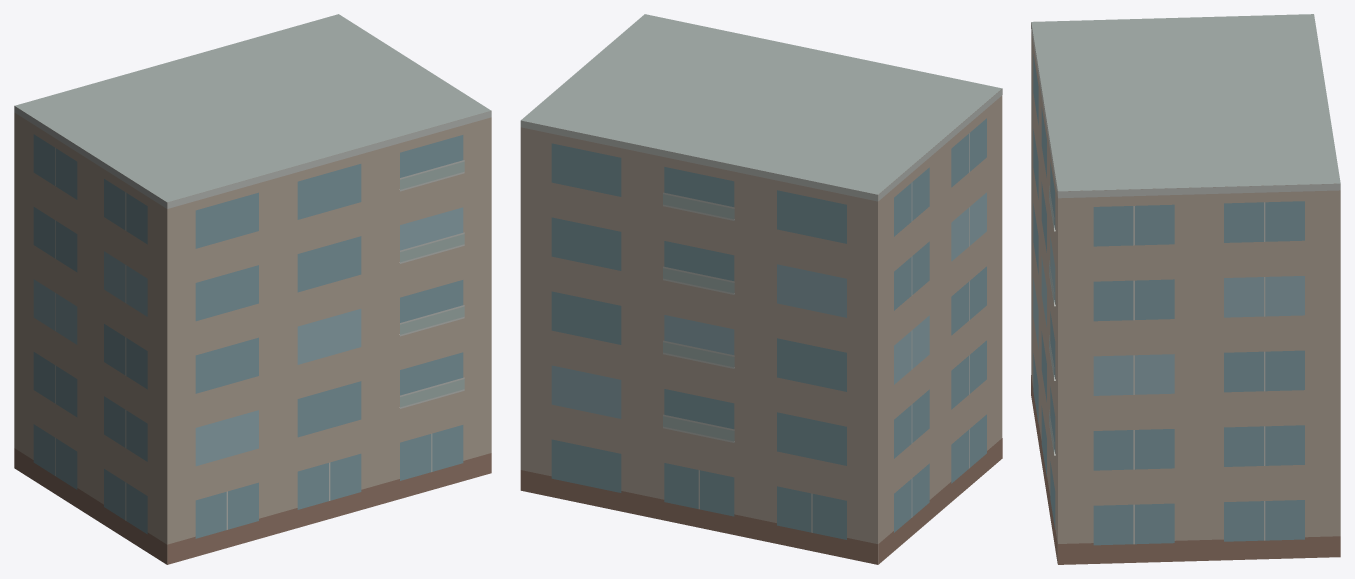
The model's file is survey-upis-32679362.glb.
3 renders of one model, left to right at view 1: azimuth 30°, elevation 25°; view 2: azimuth 150°, elevation 25°; view 3: azimuth 270°, elevation 25°, orthographic. The views are drawn at different scales.
Parts seen in each view (by area): view 1: survey-upis-32679362.tmp; view 2: survey-upis-32679362.tmp; view 3: survey-upis-32679362.tmp.
Boxes of the visible parts, x1=… form: survey-upis-32679362.tmp: x1=14, y1=14, x2=491, y2=564; survey-upis-32679362.tmp: x1=520, y1=14, x2=1002, y2=564; survey-upis-32679362.tmp: x1=1031, y1=14, x2=1340, y2=564.
Bounding box in the file's own units: 13.56 × 13.3 × 10.
